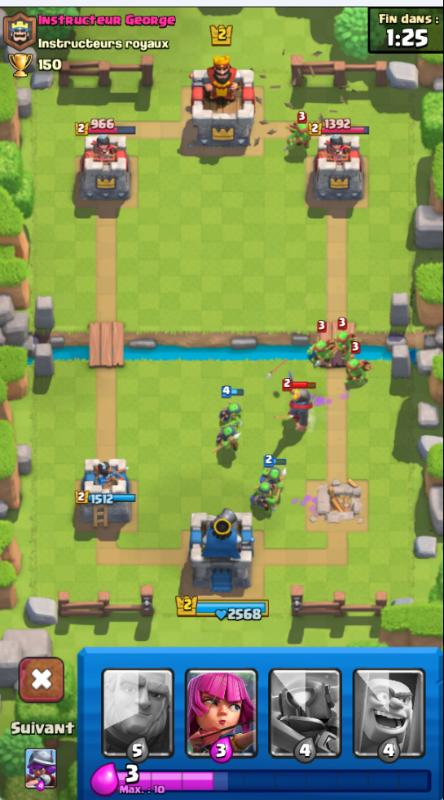chevalier: (281, 378, 317, 435)
gobelin_lances: (250, 482, 282, 522), (283, 116, 313, 155), (213, 425, 245, 459), (329, 327, 355, 364), (254, 460, 290, 486), (345, 359, 372, 392), (214, 397, 244, 425), (307, 337, 330, 370)
